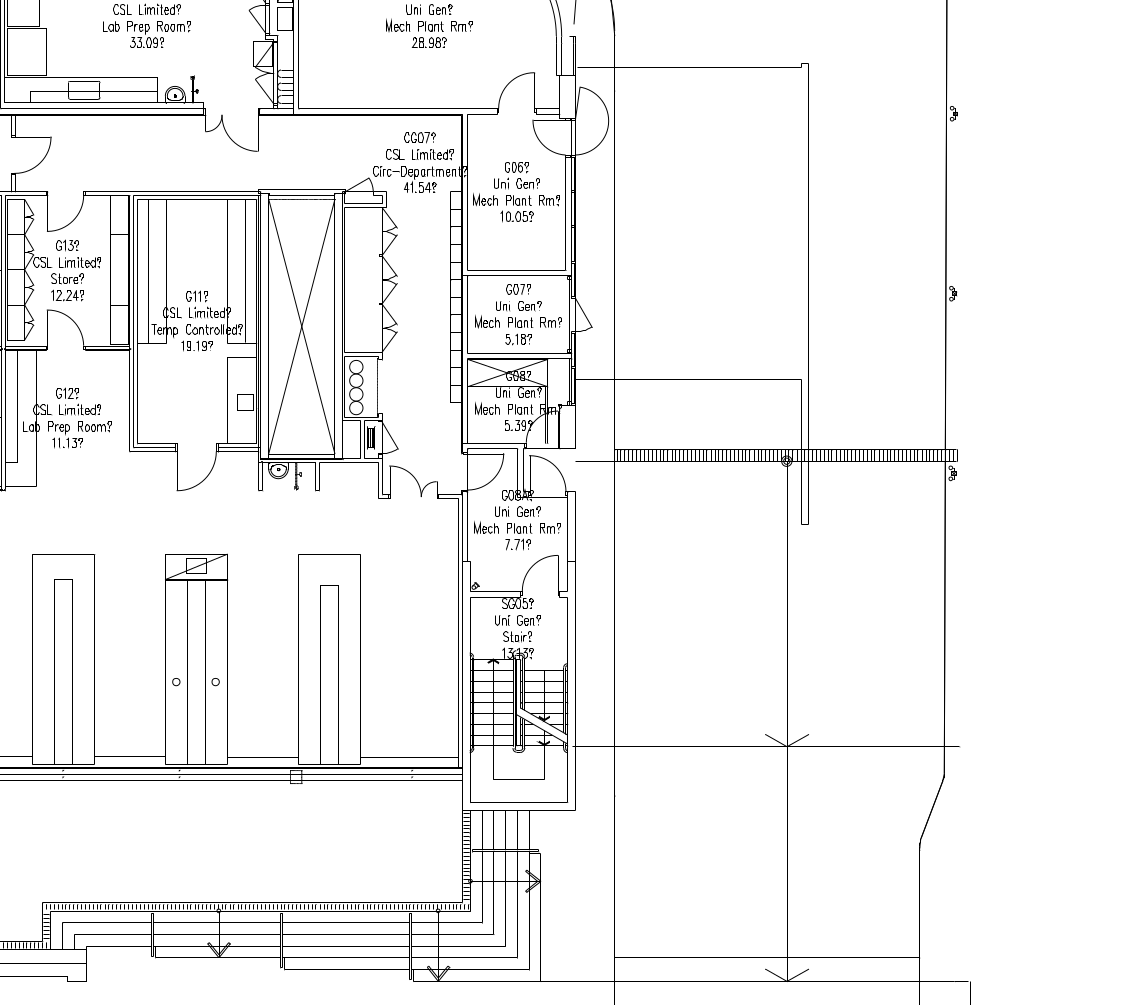door: (200, 103, 265, 157), (387, 459, 443, 511), (492, 67, 540, 120), (172, 445, 219, 498), (527, 451, 570, 501), (518, 547, 561, 597), (13, 129, 55, 179), (45, 188, 87, 238), (44, 302, 86, 352), (462, 452, 506, 493)
